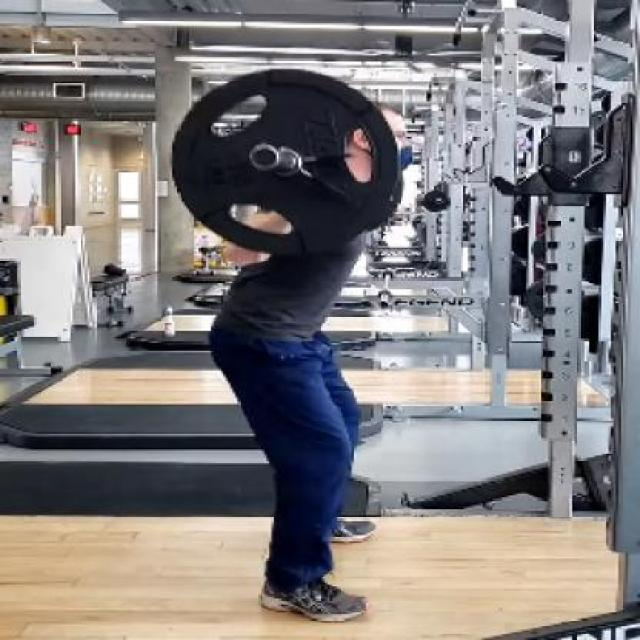barbell: (166, 62, 408, 257)
